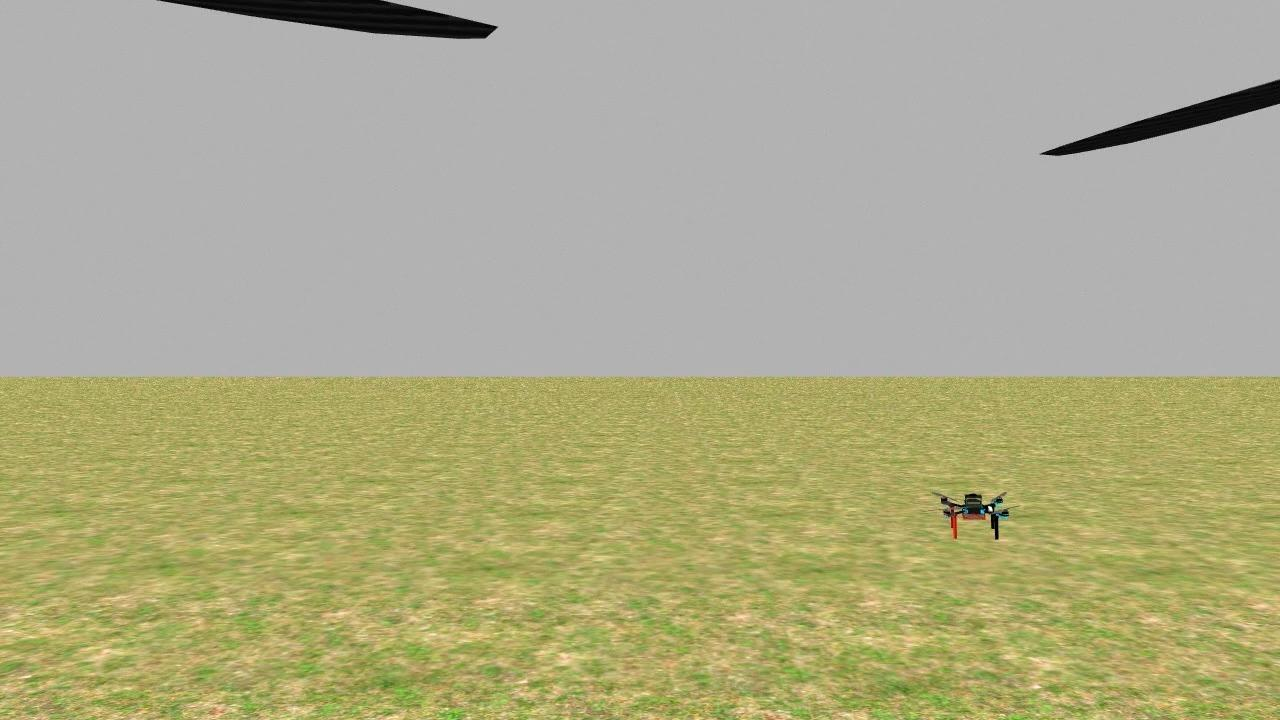UAV: (931, 476, 1017, 545)
